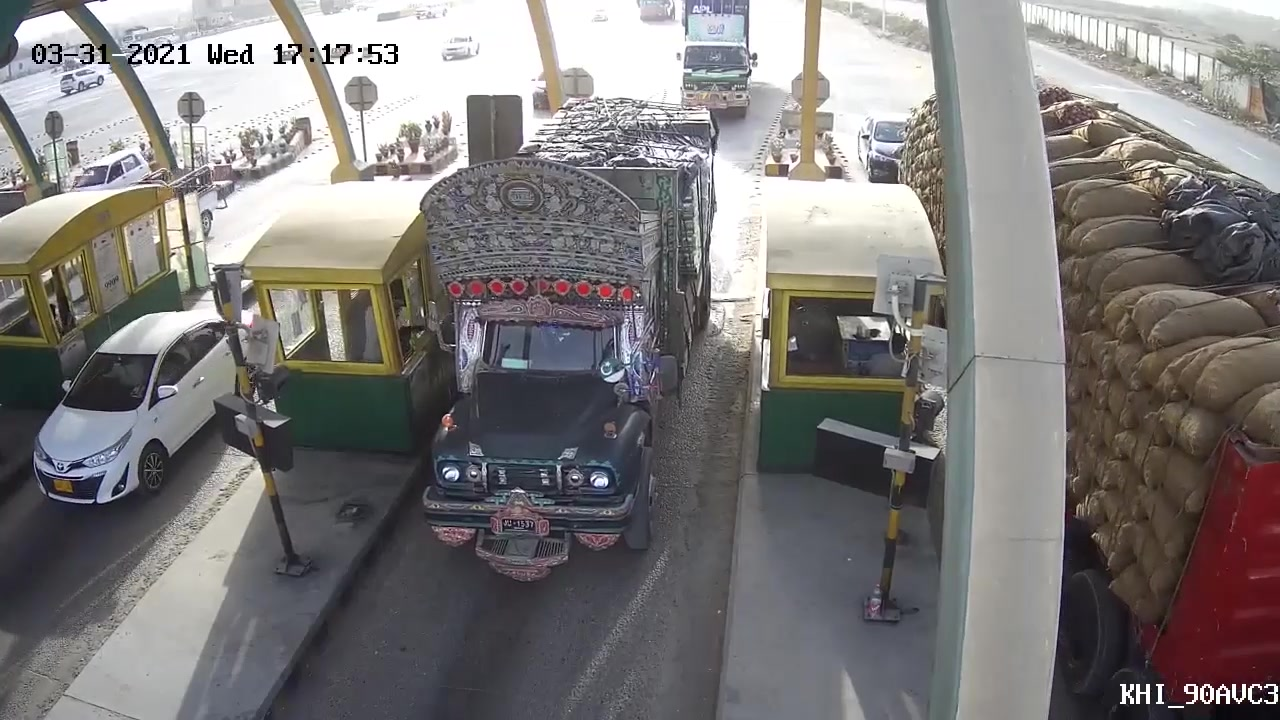F5: (413, 91, 725, 575)
